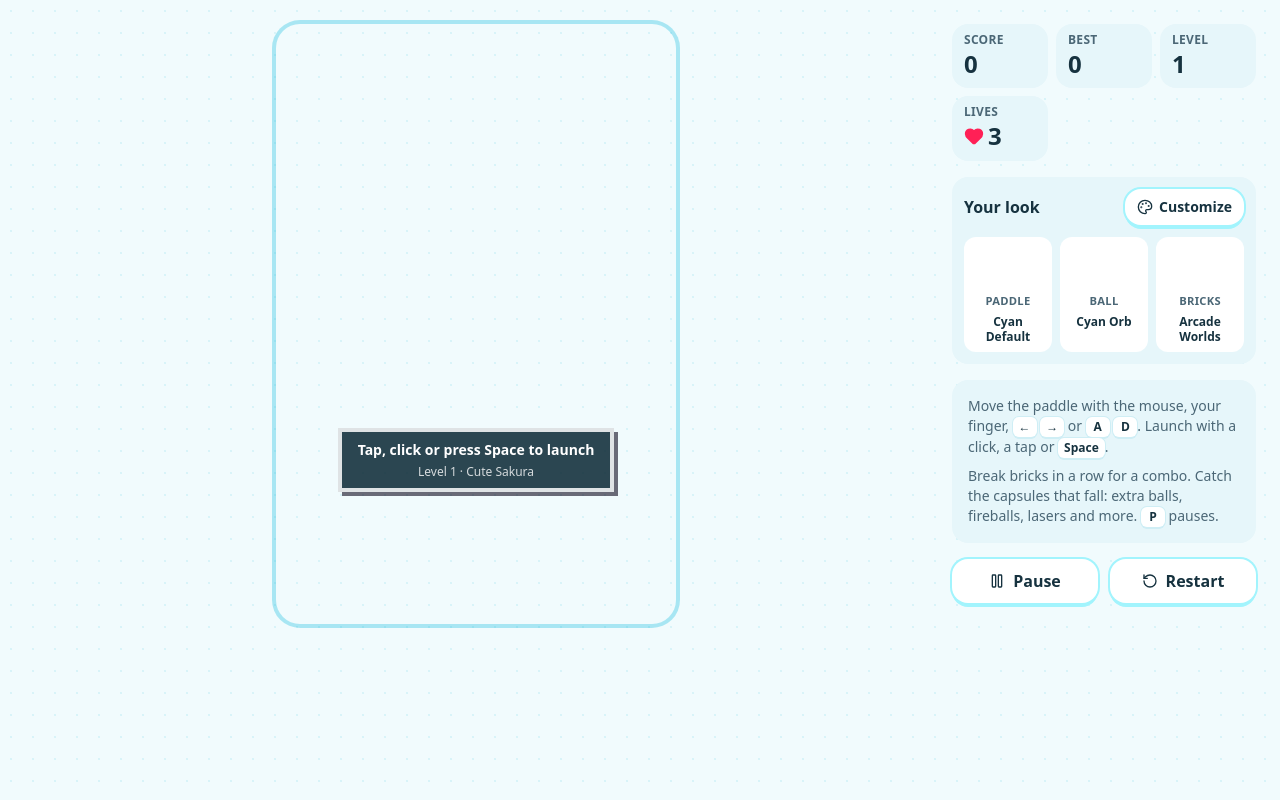
Test case: Brick Breaker skins › asks a guest to log in
The image size is (1280, 800).
Click the button "Customize". click: {"x": 1184, "y": 207}
box: 1125,189 -> 1244,225
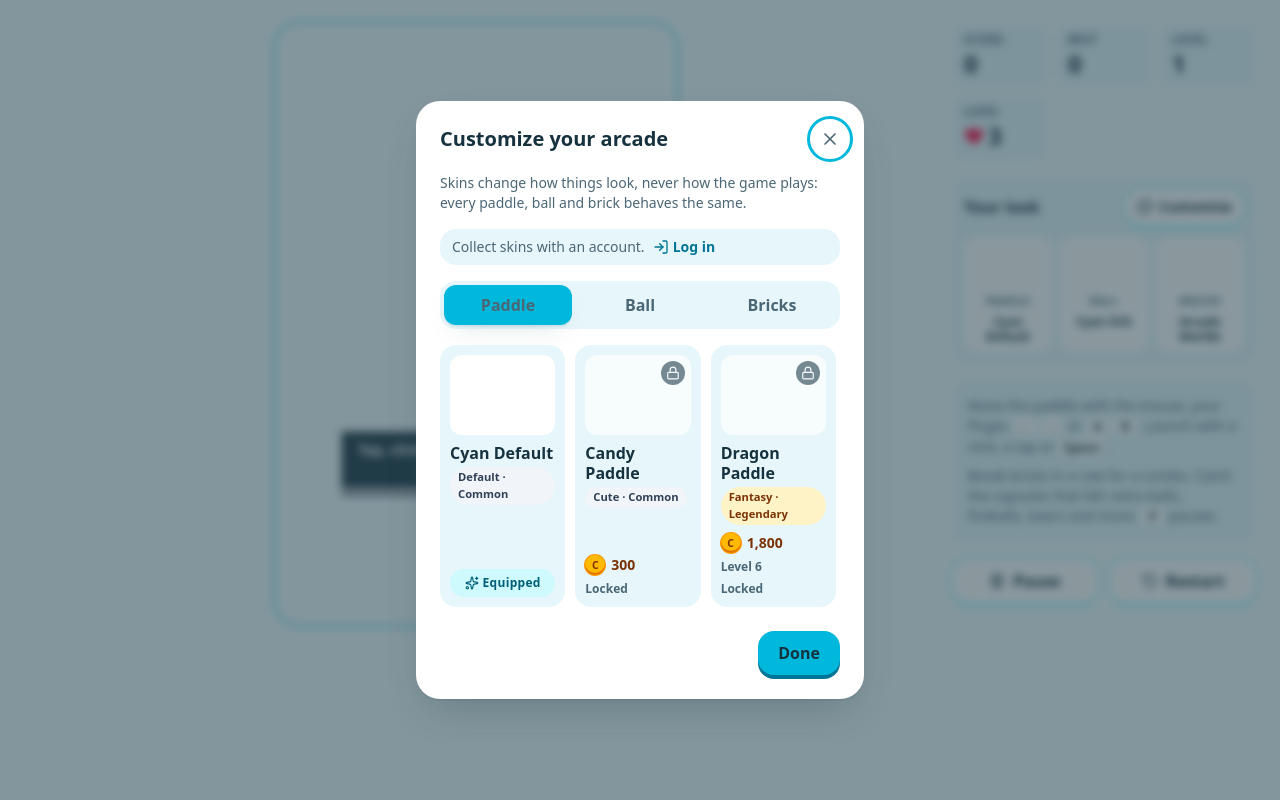
Now the link "Log in" is shown, box 653,237 -> 715,257
